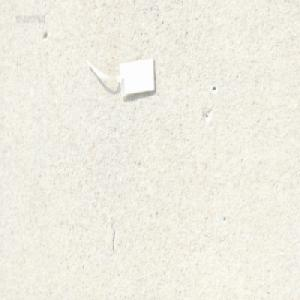LuggageTag: (84, 53, 157, 99)
